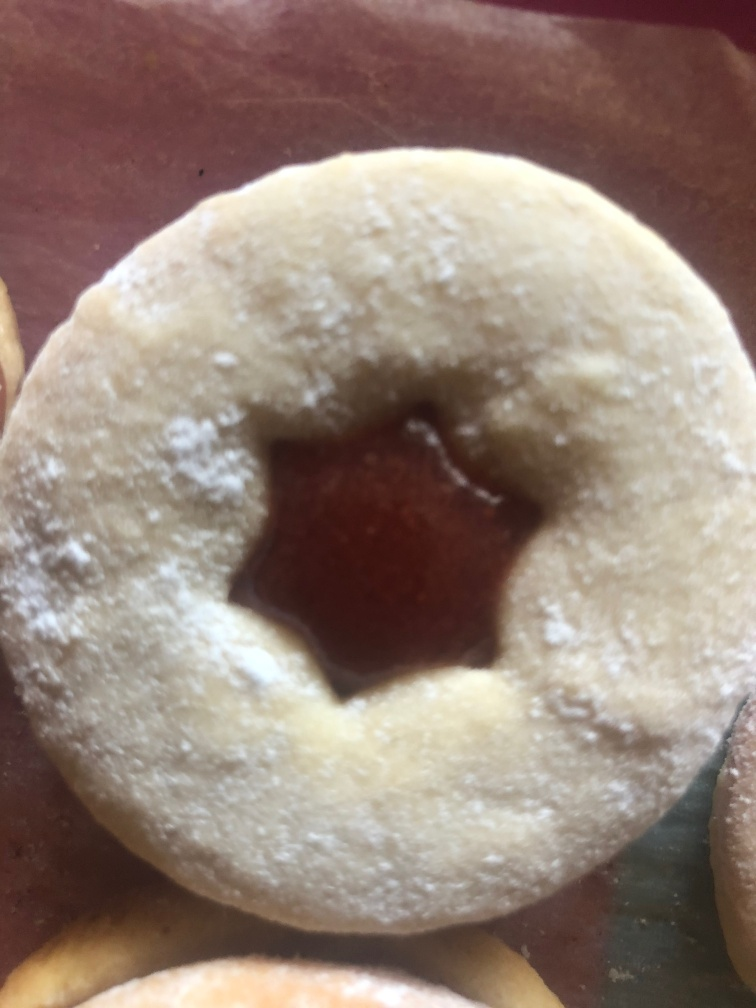christmas shortbread with jam: (5, 139, 756, 928)
